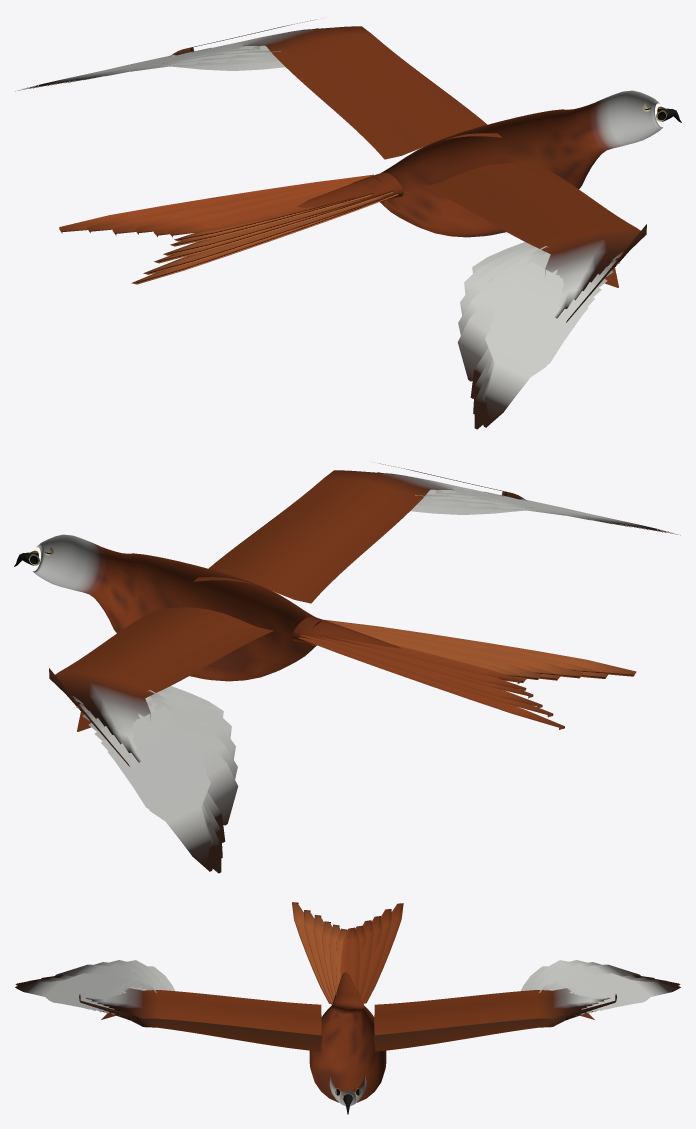
The model's file is SM_Bird_red_kite_flap3.glb.
3 renders of one model, top to bottom at view 1: azimuth 30°, elevation 25°; view 2: azimuth 150°, elevation 25°; view 3: azimuth 270°, elevation 25°, orthographic. The views are drawn at different scales.
Visible parts, largest first — view 1: SM_Bird_red_kite_flap3; view 2: SM_Bird_red_kite_flap3; view 3: SM_Bird_red_kite_flap3.
Boxes of the visible parts, box(x1,y1,x2,y2) form: SM_Bird_red_kite_flap3: box(15, 19, 681, 429); SM_Bird_red_kite_flap3: box(14, 463, 680, 873); SM_Bird_red_kite_flap3: box(15, 902, 680, 1114).
Bounding box in the file's own units: 0.8266 × 0.147 × 1.14.
